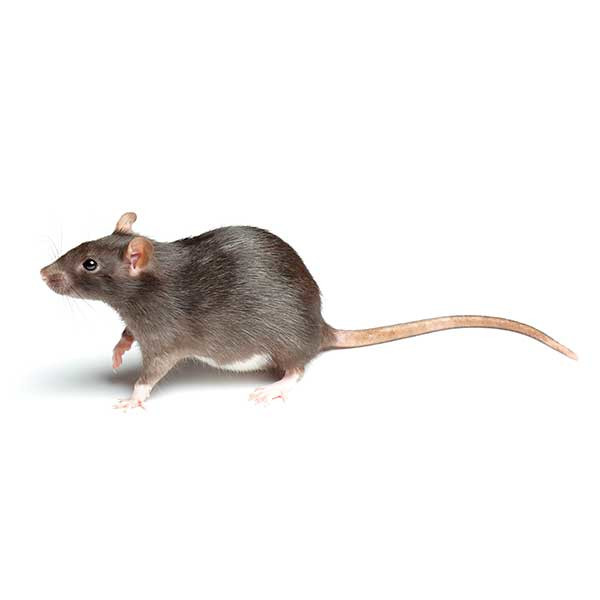rat: (37, 210, 581, 413)
